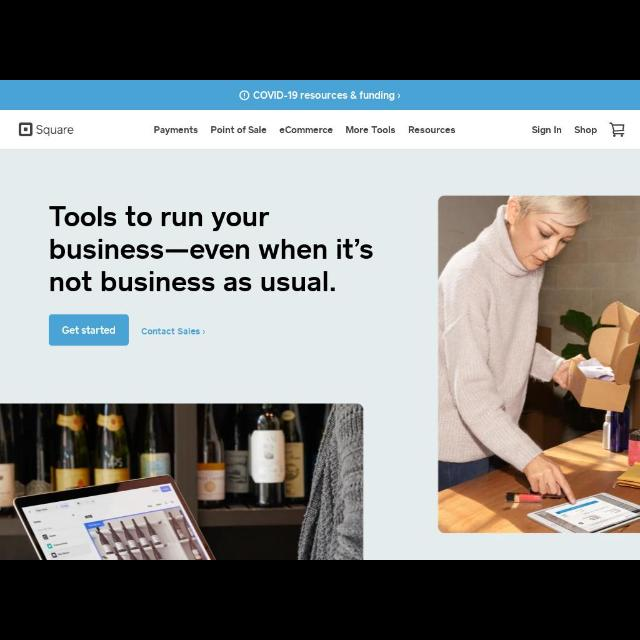icon: (608, 122, 626, 138), (239, 90, 251, 102), (397, 92, 401, 100), (202, 329, 206, 335)
image: (439, 197, 639, 533), (1, 404, 363, 558), (18, 122, 74, 138)
multitab: (137, 110, 639, 150)
text: (48, 205, 374, 293), (252, 89, 396, 101), (344, 126, 396, 136), (141, 327, 201, 335), (211, 126, 267, 134), (154, 126, 198, 136), (279, 126, 333, 134), (408, 126, 456, 134), (532, 126, 562, 136), (574, 126, 598, 136)
textbutton: (50, 315, 128, 345)
